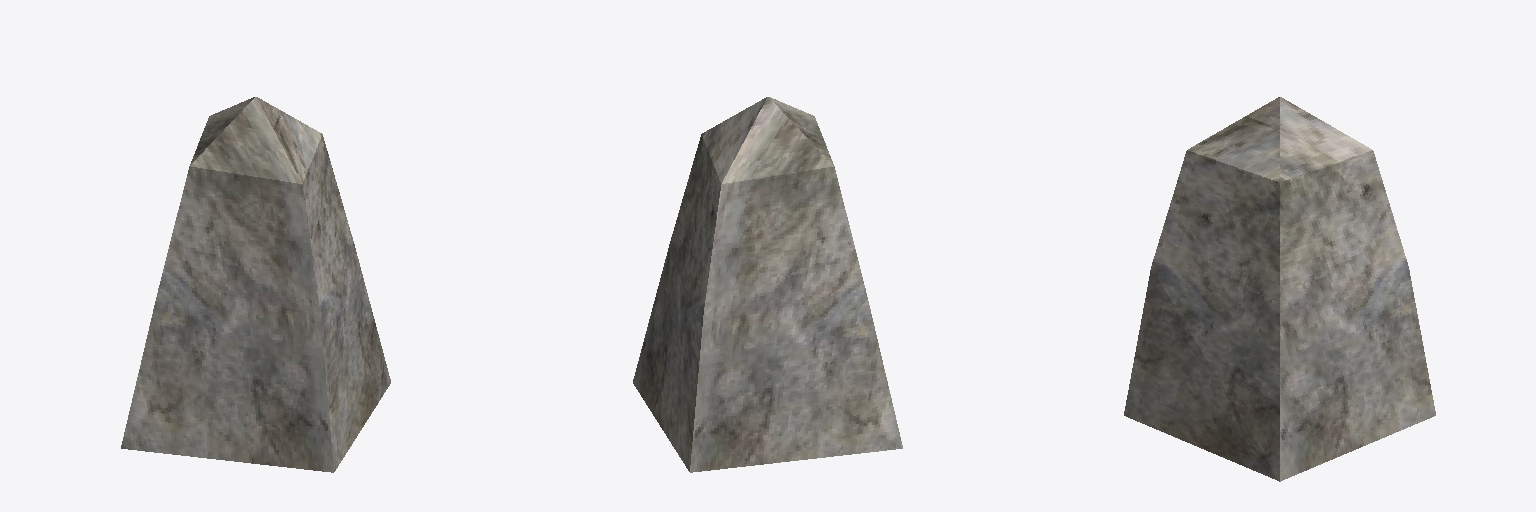
3 views of the same model, side by side, from view 1: azimuth 30°, elevation 25°; view 2: azimuth 150°, elevation 25°; view 3: azimuth 270°, elevation 25° (orthographic).
Visible parts, largest first — view 1: a1, a2, a4; view 2: a4, a3, a1; view 3: a2, a3.
Part boxes in pixels (x1,y1,x2,y2): a1: (121,97,333,472); a2: (257,97,390,471); a4: (190,97,254,164); a4: (690,97,902,472); a3: (633,97,766,471); a1: (769,97,833,164); a2: (1124,97,1279,481); a3: (1280,97,1435,481).
Size of the model in its own units: 61 by 68.75 by 61.
Materials: 1 (1 with a texture image).